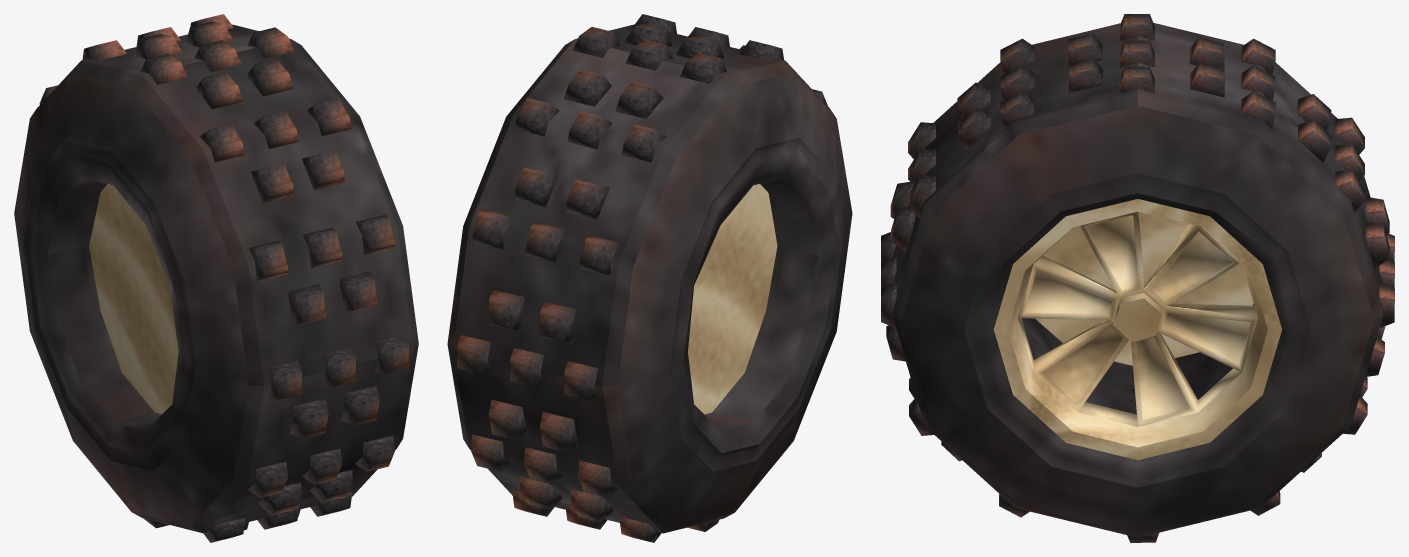
File: Coche_Bueno_01_Rueda_izq.tras.fbx
3 renders of one model, left to right at view 1: azimuth 30°, elevation 25°; view 2: azimuth 150°, elevation 25°; view 3: azimuth 270°, elevation 25°, orthographic.
Visible parts, largest first — view 1: Ruerdas_tra_izq; view 2: Ruerdas_tra_izq; view 3: Ruerdas_tra_izq.
Boxes of the visible parts, <box> form: Ruerdas_tra_izq: <box>14,14,418,542</box>; Ruerdas_tra_izq: <box>447,14,852,542</box>; Ruerdas_tra_izq: <box>881,14,1394,542</box>.
Bounding box in the file's own units: 128 × 257 × 257.
